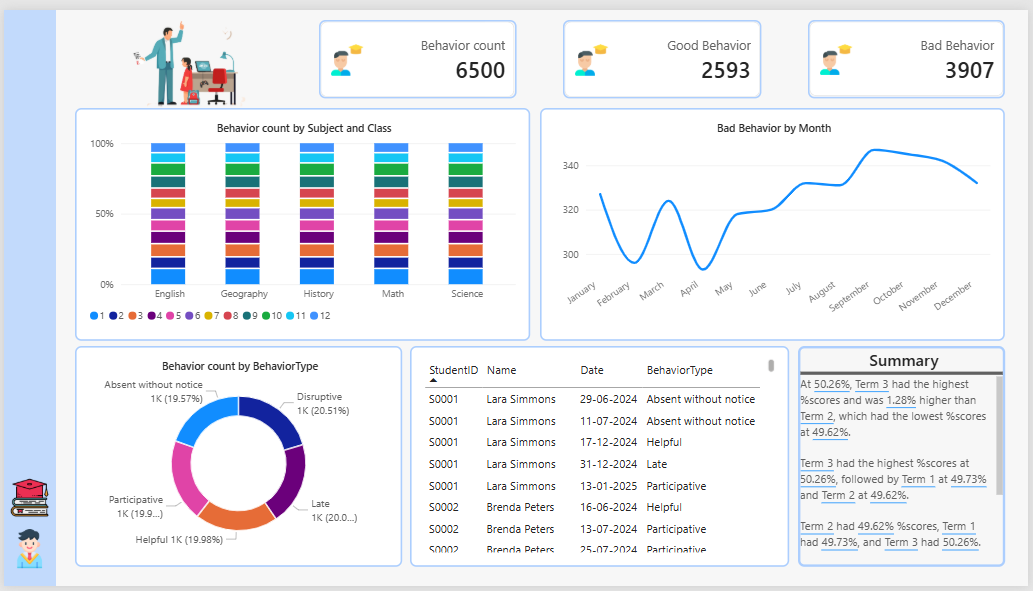

The page's visual inventory and layout, read from the dashboard file:
{"tool":"powerbi","page":{"name":"Behavioral","canvas":[1280,720],"ordinal":1},"visuals":[{"type":"cardVisual","fields":{"Data":["_measure.Behavior count"]},"box":[393.8,12.3,246.7,98.3],"z":0},{"type":"cardVisual","fields":{"Data":["_measure.good"]},"box":[698.8,12.3,248.3,98.3],"z":1000},{"type":"cardVisual","fields":{"Data":["_measure.Bad Behavior"]},"box":[1005.4,12.7,246.2,97.5],"z":2000},{"type":"hundredPercentStackedColumnChart","fields":{"Category":["Scores csv.Subject"],"Series":["Students csv.Class"],"Y":["_measure.Behavior count"]},"box":[88.8,122.5,568.8,291.2],"z":3000},{"type":"lineChart","fields":{"Category":["Date.Date.Variation.Date Hierarchy.Year","Date.Date.Variation.Date Hierarchy.Month","Date.Date.Variation.Date Hierarchy.Day"],"Y":["_measure.Bad Behavior"]},"box":[670,122.5,581.2,291.2],"z":4000},{"type":"donutChart","fields":{"Category":["Behavior csv.BehaviorType"],"Y":["_measure.Behavior count"]},"box":[88.8,420.3,408.8,276.2],"z":5000},{"type":"shape","box":[0,0,65,720],"z":6000},{"type":"tableEx","fields":{"Values":["Students csv.StudentID","Students csv.Name","Date.Date","Behavior csv.BehaviorType"]},"box":[507.5,420.3,473.8,276.2],"z":7000},{"type":"textbox","title":"Summary","box":[992.5,420,258.8,276.2],"z":8000},{"type":"image","box":[105,12.5,252.5,111.2],"z":9000},{"type":"image","box":[7.1,648.3,48.6,48.6],"z":11000},{"type":"image","box":[7.1,585.4,48.6,48.6],"z":12000}]}

Visuals, with their boxes in screenshot pixels (x1, y1, x2, y2), scaled from the page's 1280x720 canvas onto the 1033x591 screenshot:
cardVisual - _measure.Behavior count: locate(318, 10, 517, 91)
cardVisual - _measure.good: locate(564, 10, 764, 91)
cardVisual - _measure.Bad Behavior: locate(811, 10, 1010, 90)
hundredPercentStackedColumnChart - Scores csv.Subject x Students csv.Class: locate(72, 101, 531, 340)
lineChart - Date.Date.Variation.Date Hierarchy.Year x Date.Date.Variation.Date Hierarchy.Month: locate(541, 101, 1010, 340)
donutChart - Behavior csv.BehaviorType x _measure.Behavior count: locate(72, 345, 402, 572)
shape: locate(0, 0, 52, 590)
tableEx - Students csv.StudentID x Students csv.Name: locate(410, 345, 792, 572)
"Summary" textbox: locate(801, 345, 1010, 571)
image: locate(85, 10, 289, 102)
image: locate(6, 532, 45, 572)
image: locate(6, 481, 45, 520)
